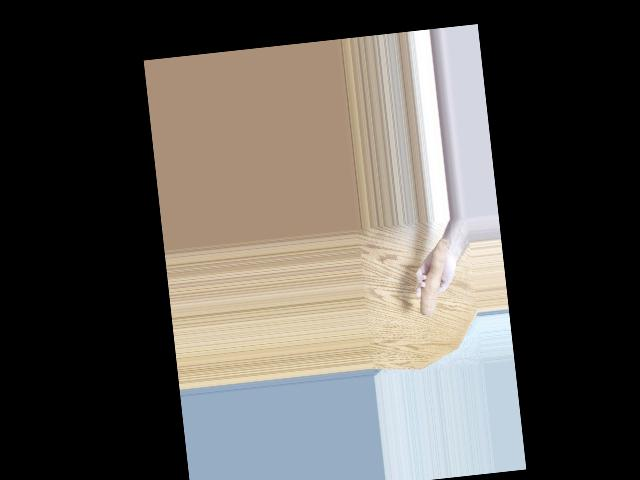sweet_potato: (411, 240, 455, 317)
